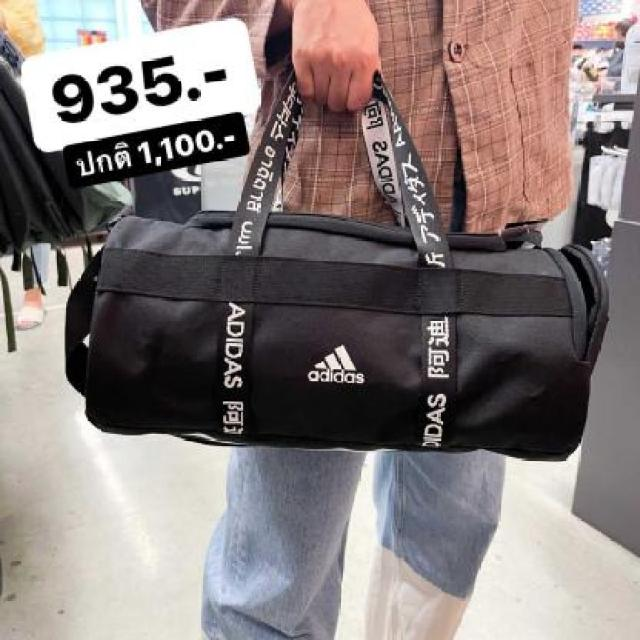Bag: (58, 69, 633, 496)
